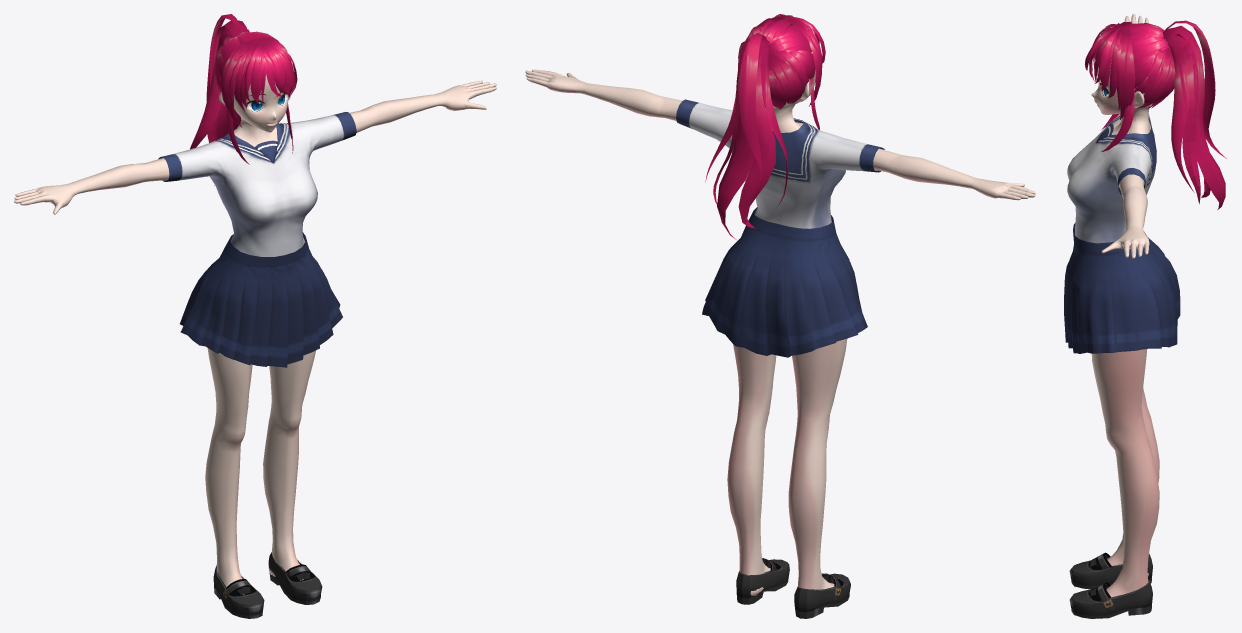
The model's file is AnimeGirl_01_2023.fbx.
The picture shows the model from 3 angles, left to right: view 1: azimuth 30°, elevation 25°; view 2: azimuth 150°, elevation 25°; view 3: azimuth 270°, elevation 25°; orthographic projection. The views are drawn at different scales.
Parts seen in each view (by area): view 1: AnimeGirl_01_2023; view 2: AnimeGirl_01_2023; view 3: AnimeGirl_01_2023.
Part boxes in pixels (x1,y1,x2,y2): AnimeGirl_01_2023: [14, 14, 496, 618]; AnimeGirl_01_2023: [525, 14, 1035, 618]; AnimeGirl_01_2023: [1064, 14, 1226, 618].
Size of the model in its own units: 3.45 by 3.8 by 0.9808.
